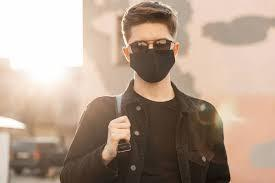mask: (129, 46, 180, 82)
sunglasses: (125, 38, 176, 53)
